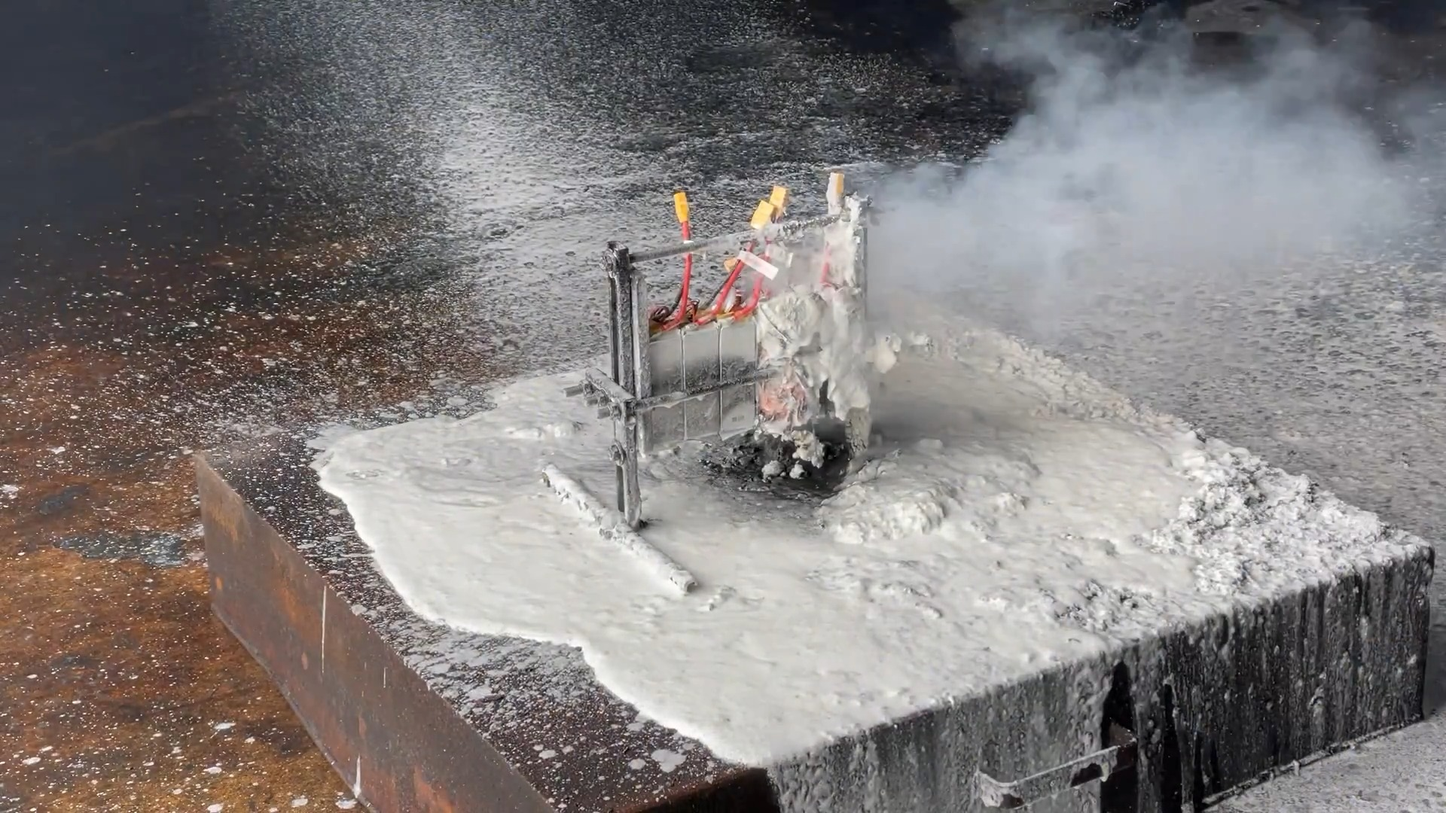smoke: (849, 2, 1444, 367)
